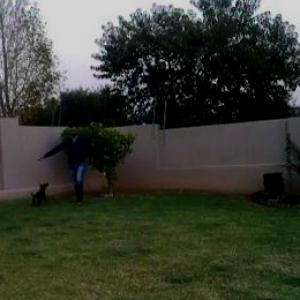land: (50, 108, 129, 216)
